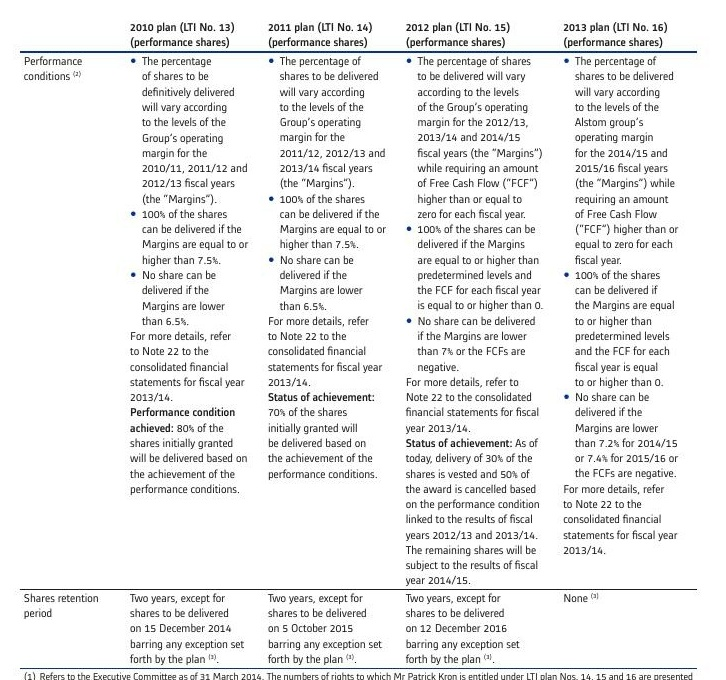table: (0, 0, 726, 680)
